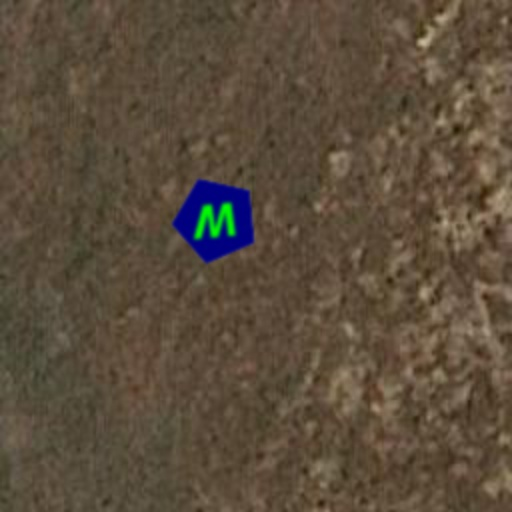pentagon: (166, 170, 266, 270)
